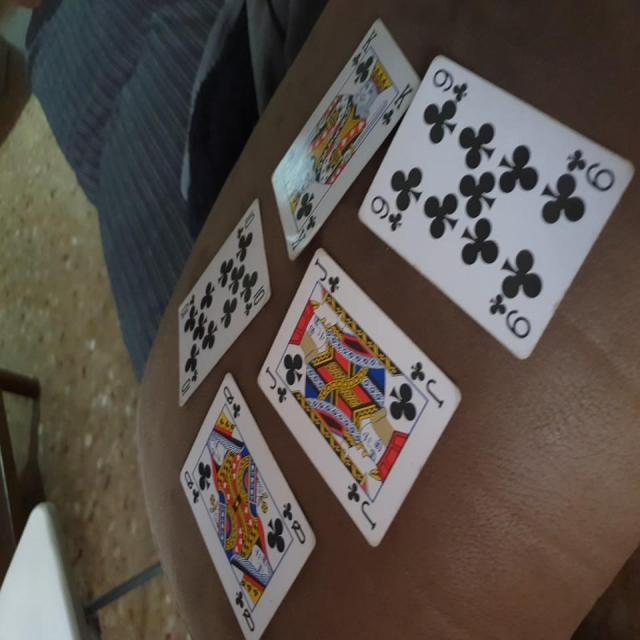10 Trefoils: (176, 198, 273, 407)
9 Trefoils: (356, 48, 633, 359)
J Trefoils: (257, 250, 466, 546)
K Trefoils: (269, 11, 419, 265)
Q Trefoils: (180, 370, 317, 640)
